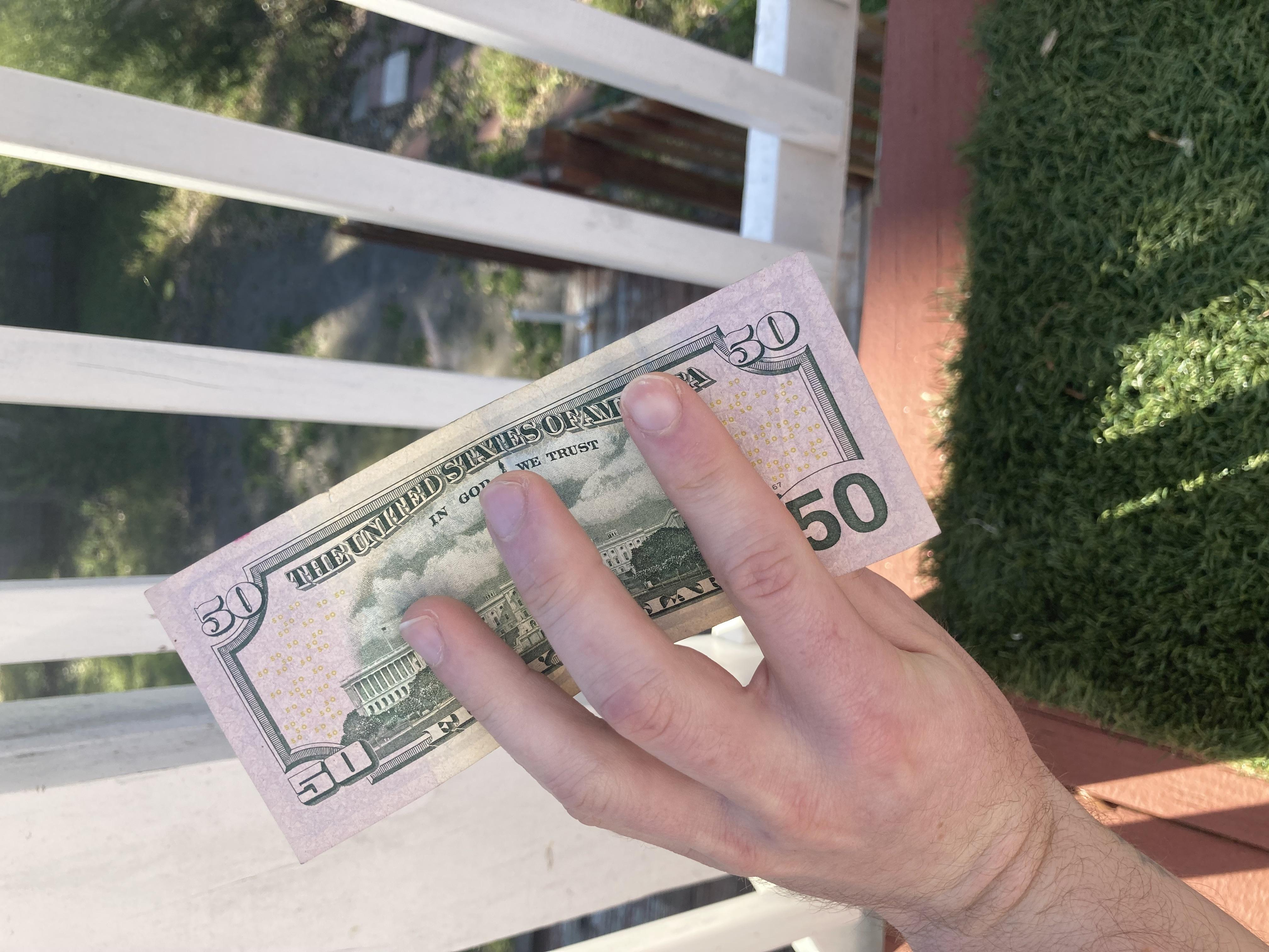fifty-back: (114, 107, 942, 712)
